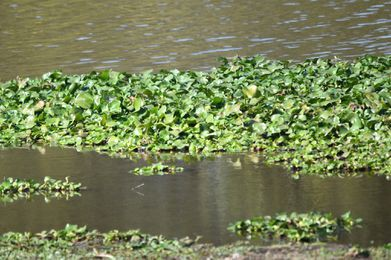water_hyacinth: (0, 68, 164, 169)
